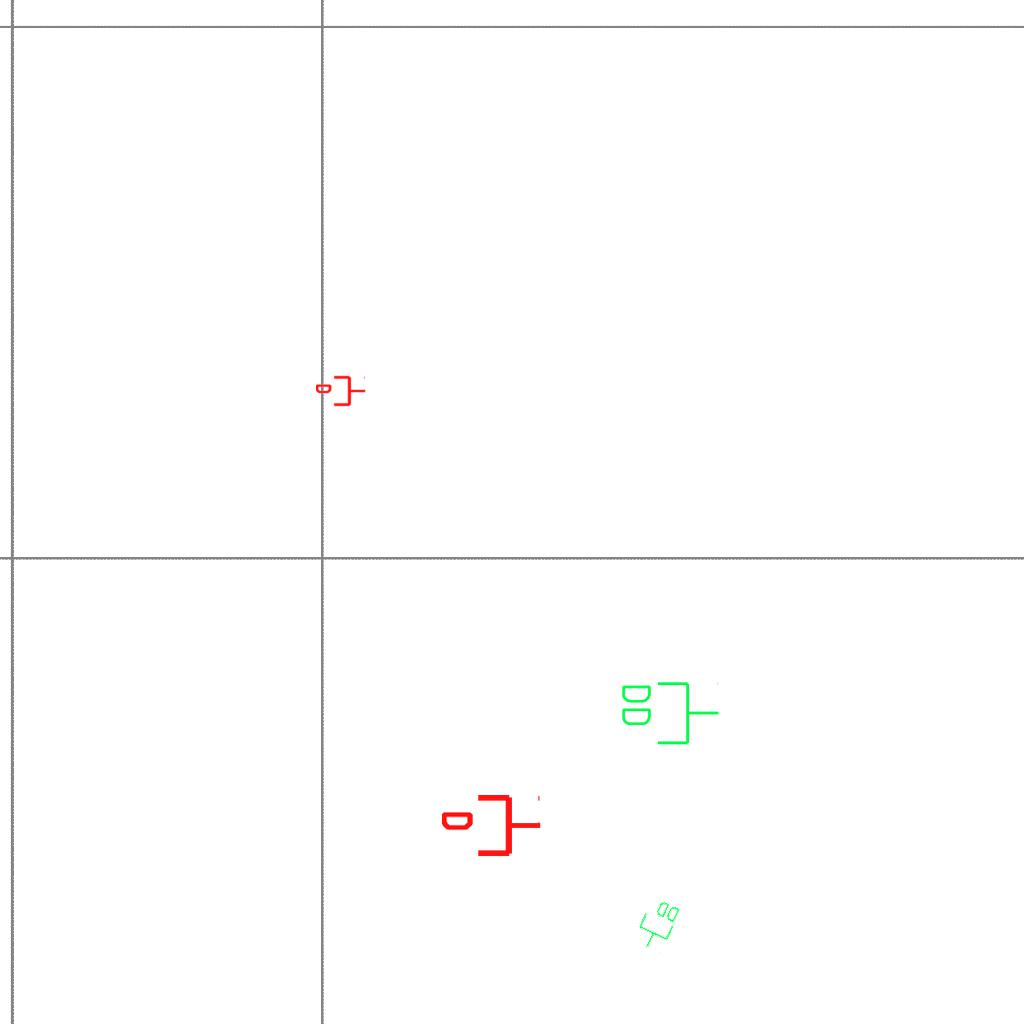Datenanschluss_einfach: (442, 791, 542, 860), (316, 374, 366, 408)
Datenanschluss_zweifach: (618, 678, 721, 747), (631, 894, 684, 956)
